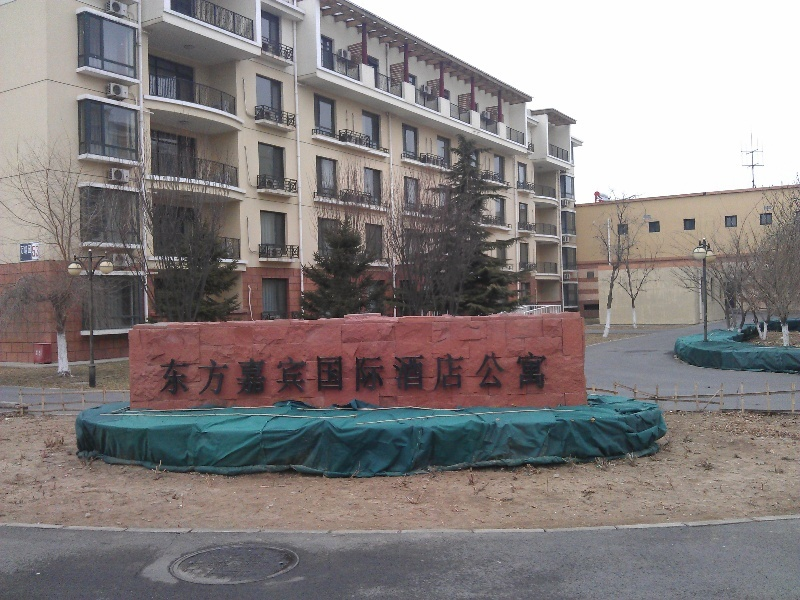text: (161, 350, 176, 396), (177, 350, 192, 396), (193, 350, 208, 396), (209, 350, 224, 396), (225, 350, 240, 396), (241, 350, 256, 396), (257, 350, 272, 396), (273, 350, 288, 396), (289, 350, 304, 396), (305, 350, 320, 396), (321, 350, 336, 396), (337, 350, 352, 396), (353, 350, 368, 396), (369, 350, 384, 396), (385, 350, 400, 396), (401, 350, 416, 396), (417, 350, 432, 396), (433, 350, 448, 396), (449, 350, 464, 396), (465, 350, 480, 396), (481, 350, 496, 396), (497, 350, 512, 396), (513, 350, 528, 396), (529, 350, 544, 396), (33, 246, 48, 257), (545, 350, 548, 396), (21, 245, 32, 255), (158, 350, 160, 396)
